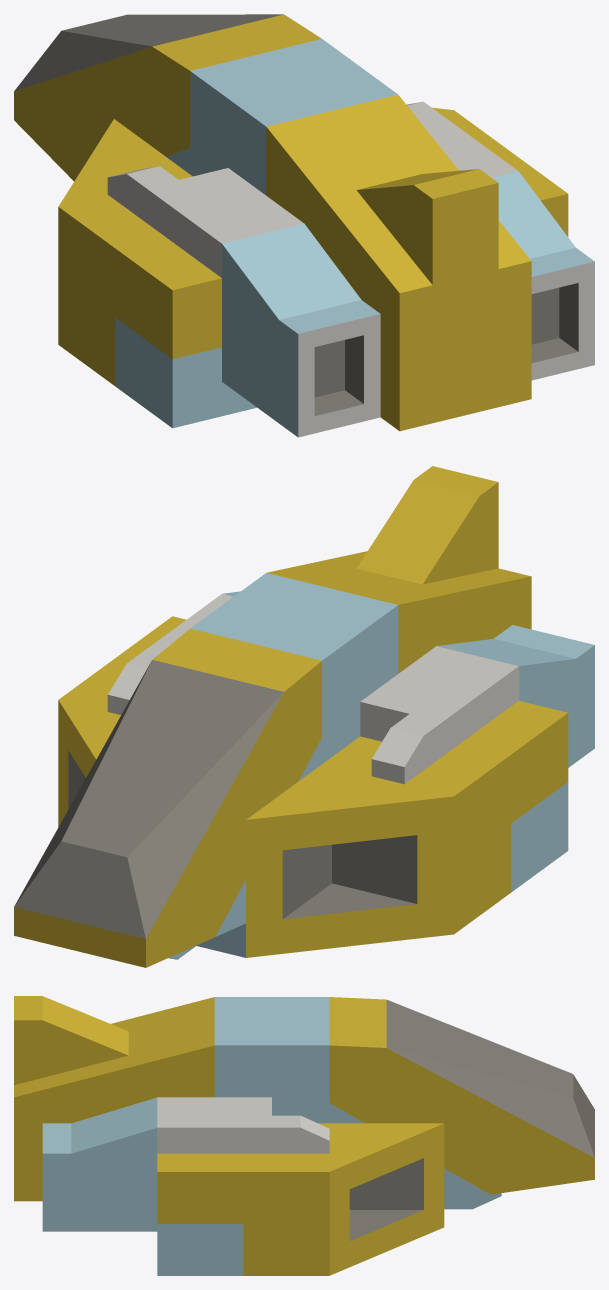
Rendered from cc0-craft-racer-lod0.glb.
3 views of the same model, one above another, from view 1: azimuth 30°, elevation 25°; view 2: azimuth 150°, elevation 25°; view 3: azimuth 270°, elevation 25° (orthographic). The views are drawn at different scales.
Parts seen in each view (by area): view 1: part_0; view 2: part_0; view 3: part_0.
Part boxes in pixels (<box>): part_0: <box>14,14,594,437</box>; part_0: <box>14,466,594,967</box>; part_0: <box>14,996,594,1275</box>.
Size of the model in its own units: 1.2 by 0.75 by 2.03.
